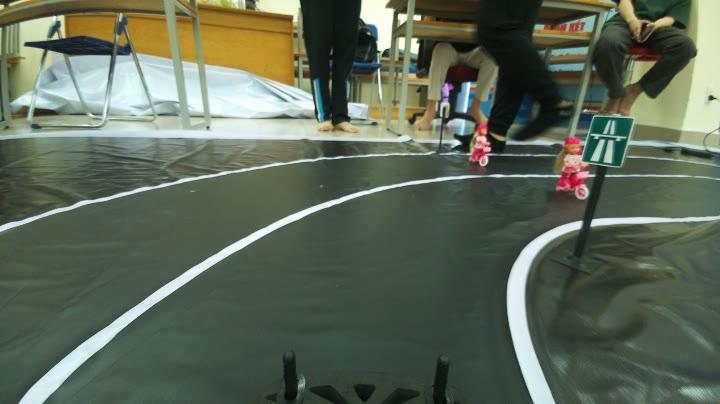highway_entry: (580, 114, 636, 173)
pedestrian: (552, 133, 594, 200)
